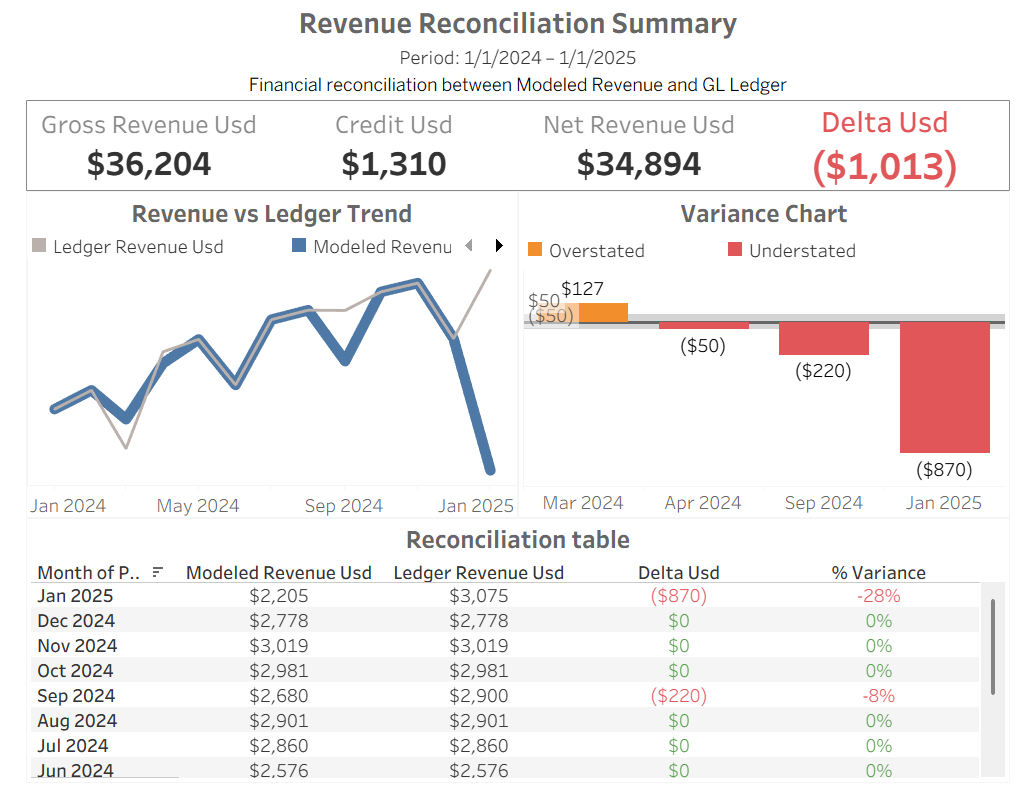

What the dashboard file says about the page in this screenshot:
{"tool":"tableau","page":{"name":"Executive Dash","canvas":[1000,800],"ordinal":0},"visuals":[{"type":"text","box":[8,8,984,46]},{"type":"worksheet","title":"Period","mark":"Automatic","box":[8,54,984,24]},{"type":"text","box":[8,78,984,31]},{"type":"worksheet","title":"KPI STRIP","mark":"Automatic","box":[9,110,734,89]},{"type":"worksheet","title":"KPI STRIP (Delta)","mark":"Automatic","box":[743,110,248,89]},{"type":"text","box":[9,201,490,41]},{"type":"text","box":[501,201,490,41]},{"type":"legend","title":"Revenue vs Ledger Trend","param":"[federated.184gxu91tuxdj913yz6bn0tnwtb8].[:Measure Names]","box":[9,242,490,25]},{"type":"legend","title":"Variance/Delta Bar Chart","param":"[federated.184gxu91tuxdj913yz6bn0tnwtb8].[usr:Calculation_0267219282554880:nk]","box":[501,242,490,33]},{"type":"worksheet","title":"Revenue vs Ledger Trend","mark":"Line","cols":["period"],"box":[9,267,490,259]},{"type":"worksheet","title":"Variance/Delta Bar Chart","mark":"Bar","rows":["delta_usd"],"cols":["period"],"box":[501,275,490,251]},{"type":"text","box":[9,528,982,39]},{"type":"worksheet","title":"Reconciliation Table","mark":"Automatic","rows":["period"],"box":[9,567,982,224]}]}

Visuals, with their boxes in screenshot pixels (x1, y1, x2, y2), scaled from the page's 1000x800 canvas onto the 1035x809 screenshot:
text: bbox=(8, 8, 1027, 55)
"Period" worksheet: bbox=(8, 55, 1027, 79)
text: bbox=(8, 79, 1027, 110)
"KPI STRIP" worksheet: bbox=(9, 111, 769, 201)
"KPI STRIP (Delta)" worksheet: bbox=(769, 111, 1026, 201)
text: bbox=(9, 203, 516, 245)
text: bbox=(519, 203, 1026, 245)
"Revenue vs Ledger Trend" legend: bbox=(9, 245, 516, 270)
"Variance/Delta Bar Chart" legend: bbox=(519, 245, 1026, 278)
"Revenue vs Ledger Trend" worksheet (Line marks): bbox=(9, 270, 516, 532)
"Variance/Delta Bar Chart" worksheet (Bar marks): bbox=(519, 278, 1026, 532)
text: bbox=(9, 534, 1026, 573)
"Reconciliation Table" worksheet: bbox=(9, 573, 1026, 800)
